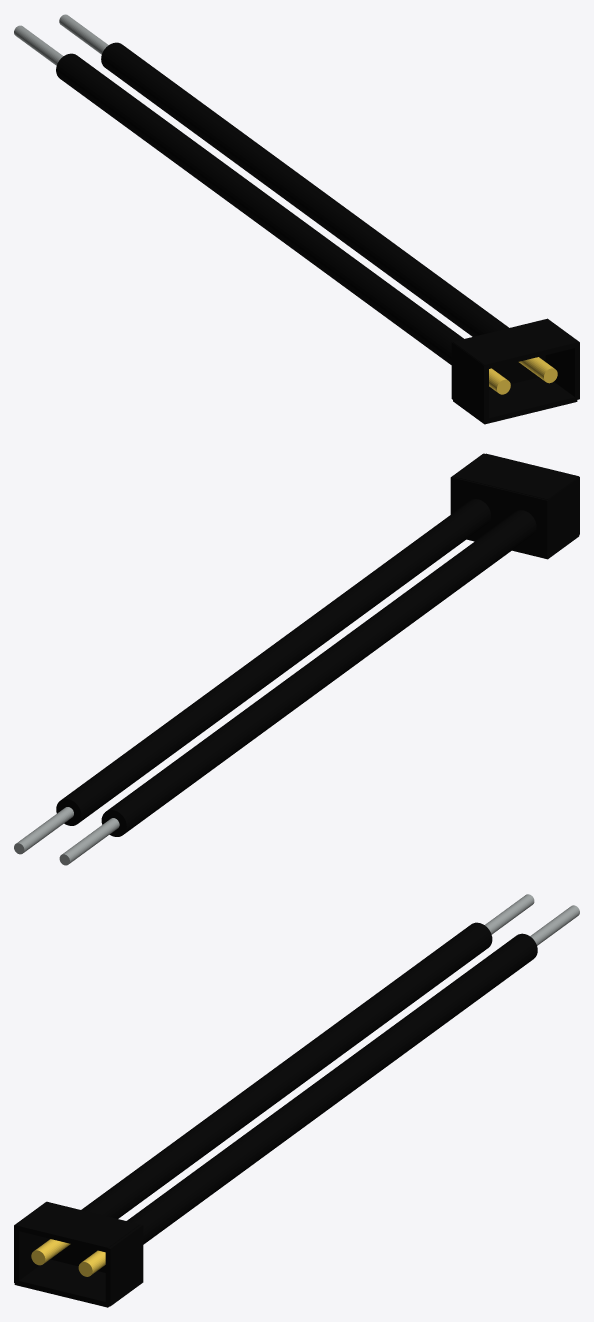
File: energy.fbx
3 views of the same model, one above another, from view 1: azimuth 30°, elevation 25°; view 2: azimuth 150°, elevation 25°; view 3: azimuth 330°, elevation 25° (orthographic).
Parts seen in each view (by area): view 1: Цилиндр.001, Куб.004, Цилиндр.002, Цилиндр.005; view 2: Цилиндр.001, Куб.004, Цилиндр.002; view 3: Цилиндр.001, Куб.004, Цилиндр.002, Цилиндр.005.
Part boxes in pixels (x1,y1,x2,y2): Цилиндр.001: [56, 42, 508, 364]; Куб.004: [451, 318, 579, 424]; Цилиндр.002: [14, 14, 108, 65]; Цилиндр.005: [489, 357, 557, 394]; Цилиндр.001: [56, 499, 536, 836]; Куб.004: [450, 453, 579, 559]; Цилиндр.002: [14, 807, 119, 865]; Цилиндр.001: [81, 922, 537, 1244]; Куб.004: [14, 1201, 143, 1307]; Цилиндр.002: [485, 894, 579, 945]; Цилиндр.005: [31, 1239, 105, 1276].
Size of the model in its own units: 271 by 160 by 2385.
